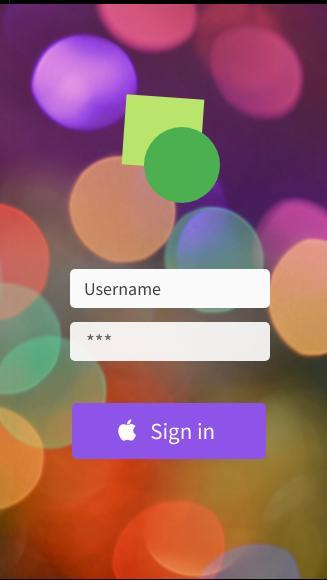button: (70, 401, 269, 463)
input: (70, 319, 272, 364), (69, 267, 272, 311)
